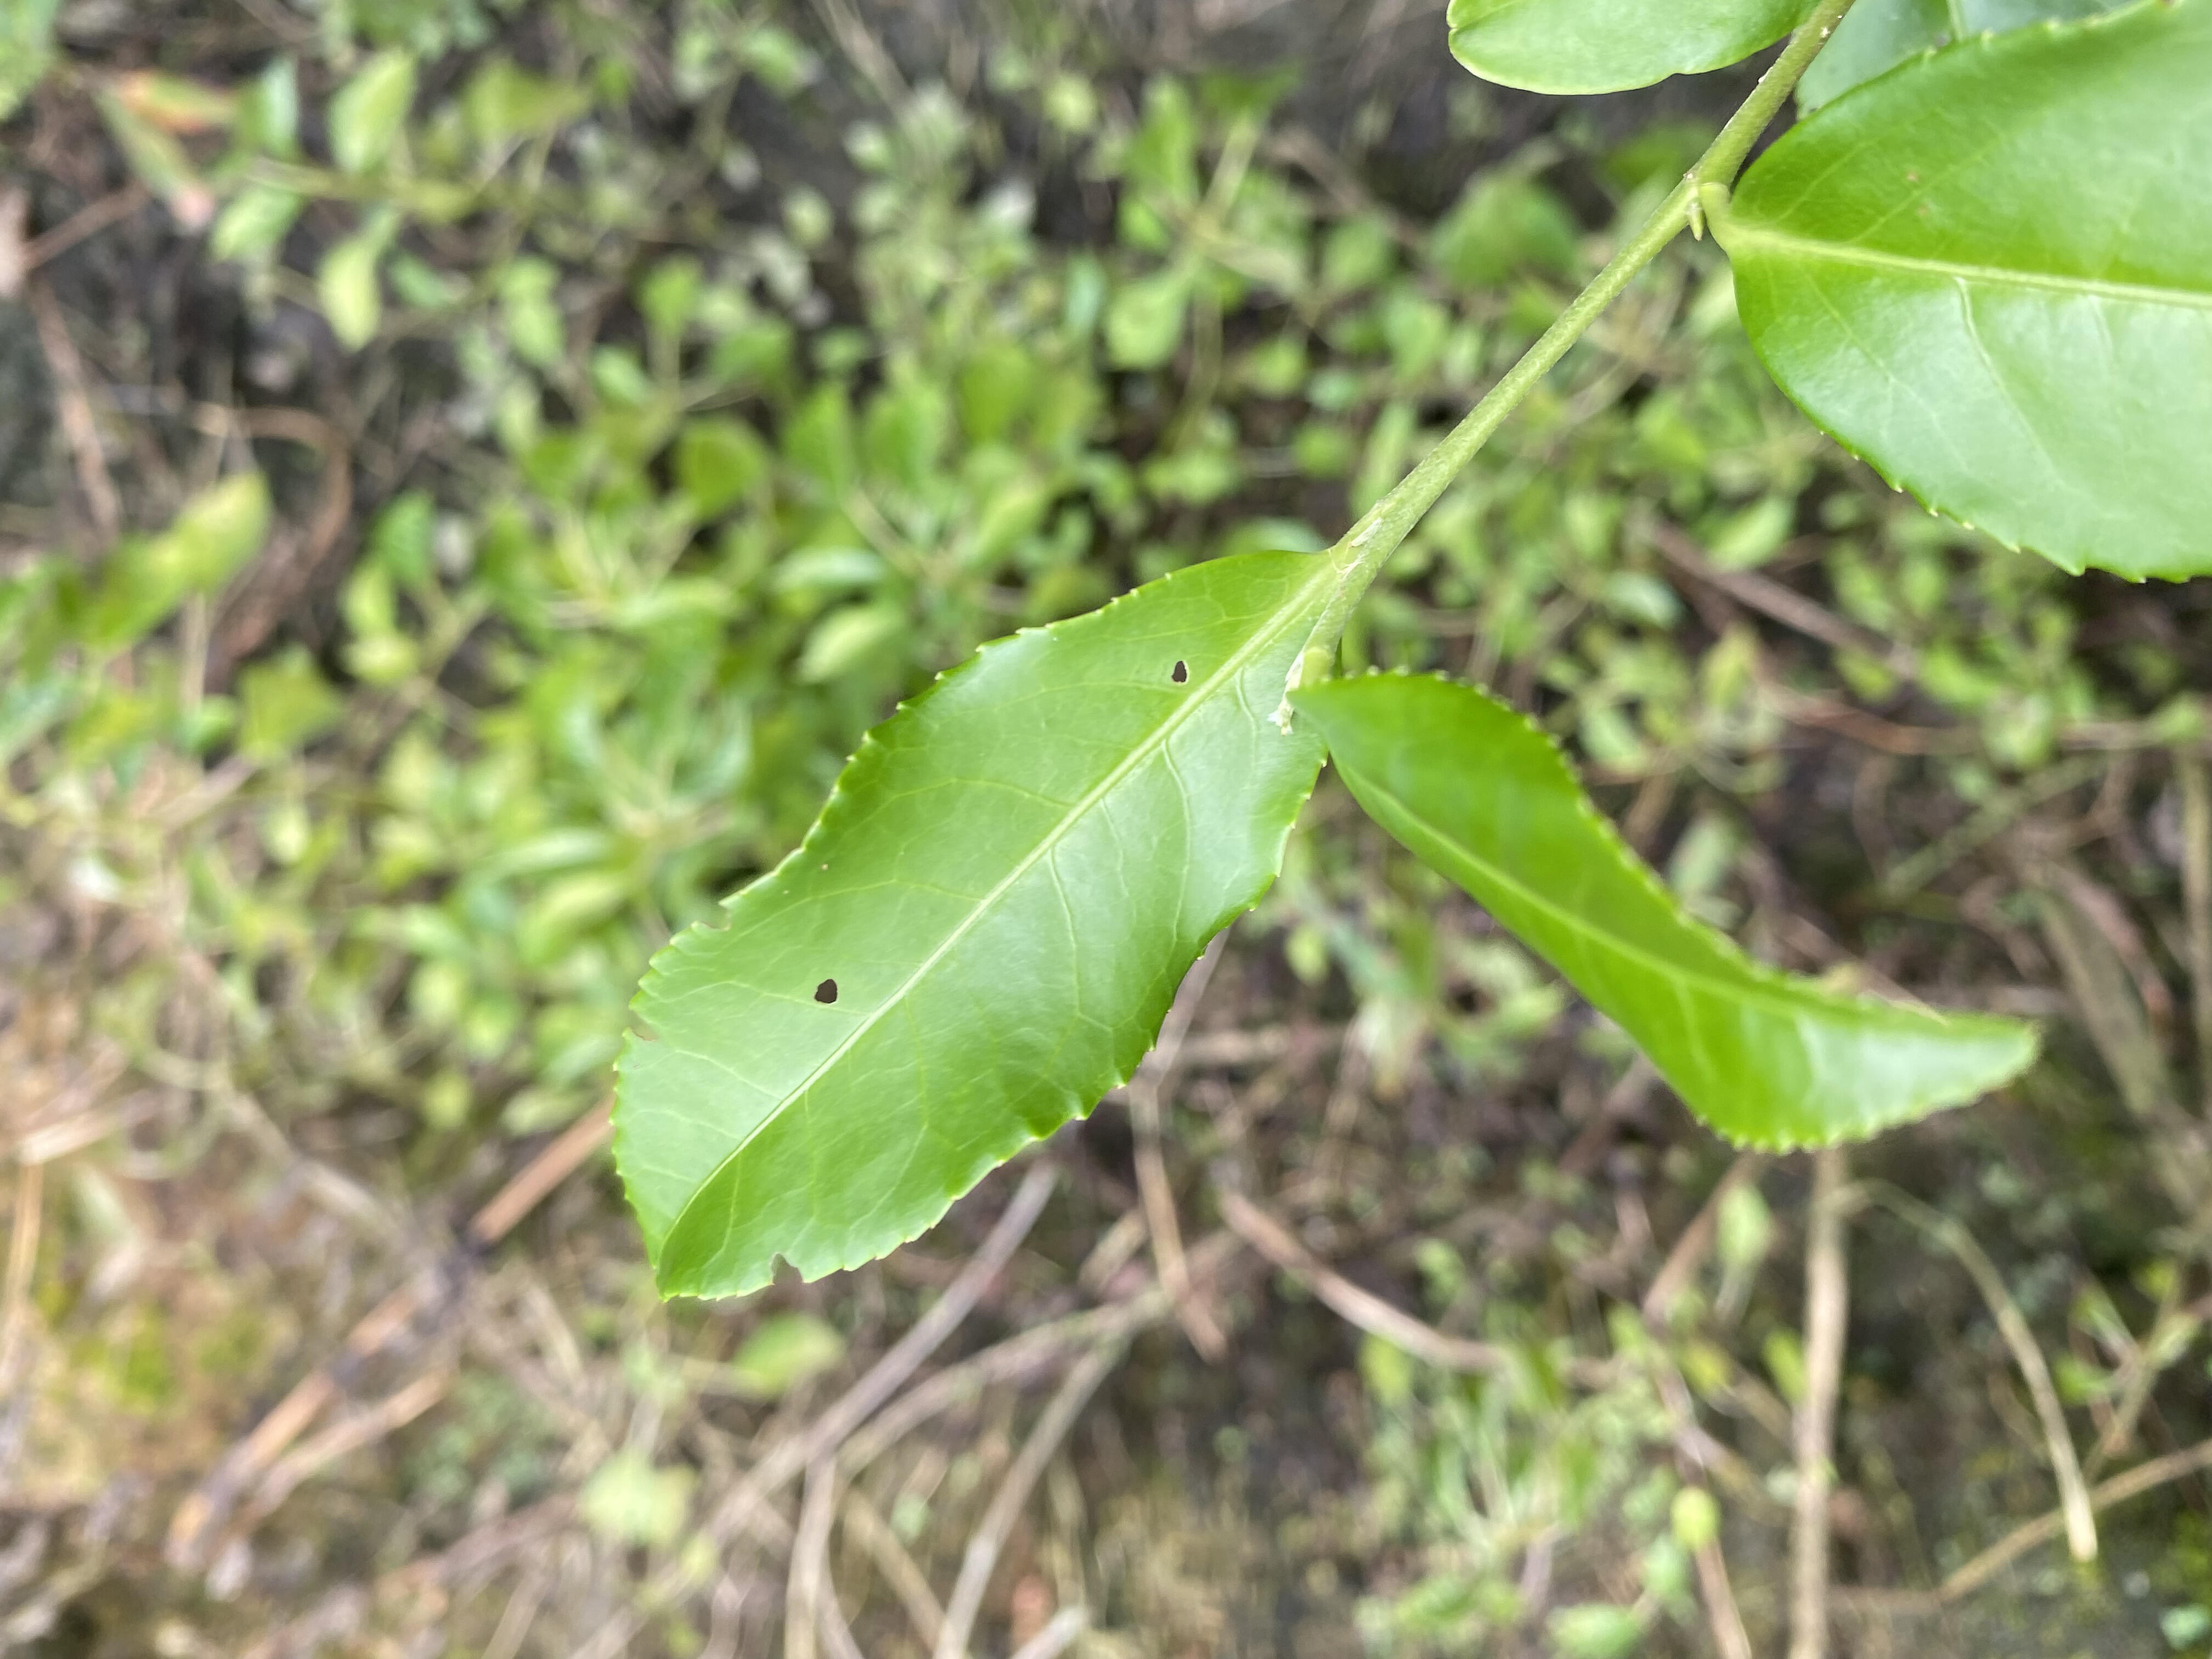chihuo_high: (604, 554, 1336, 1309)
healthy: (1287, 664, 2045, 1164), (1731, 2, 2210, 587)
